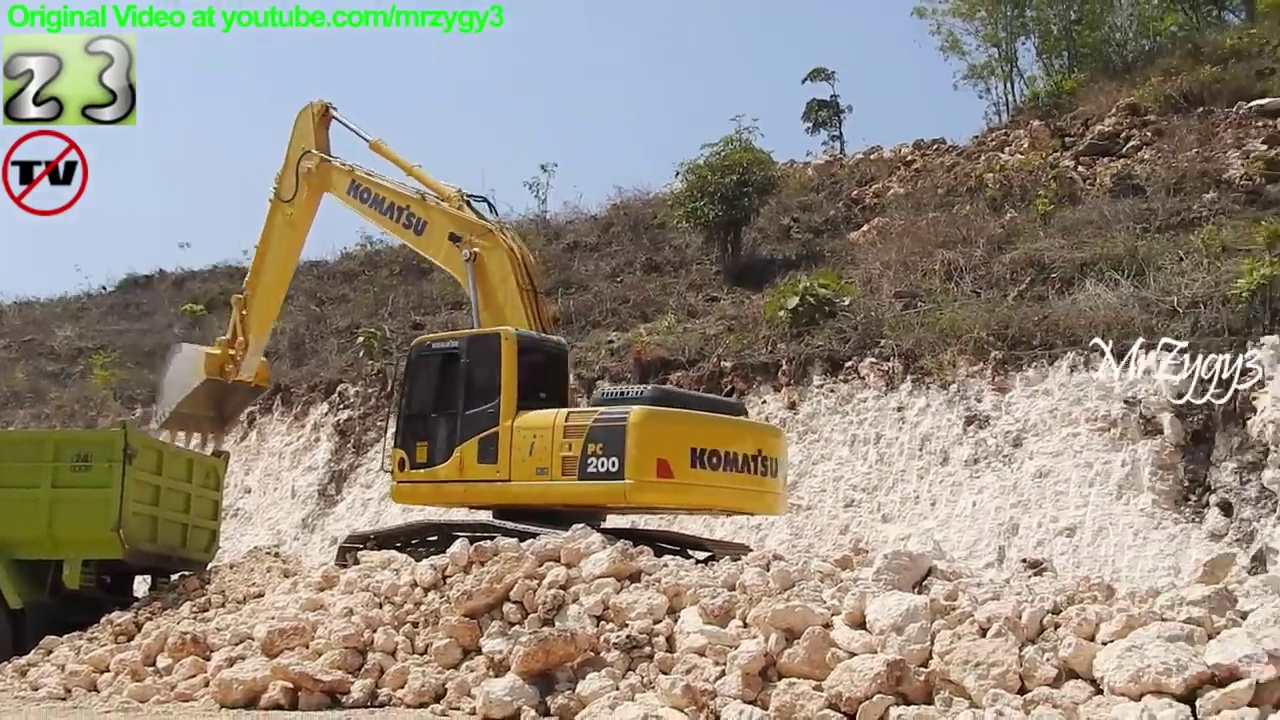excavator: (146, 95, 798, 605)
truck: (1, 408, 234, 669)
